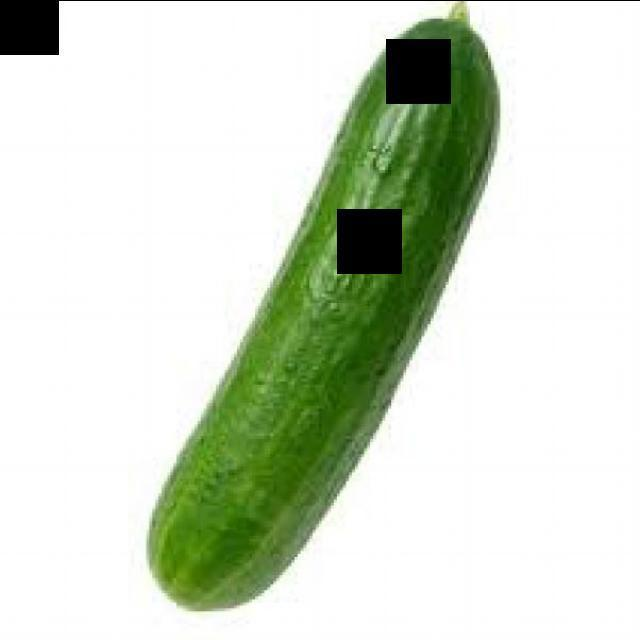cucumber: (140, 0, 506, 620)
